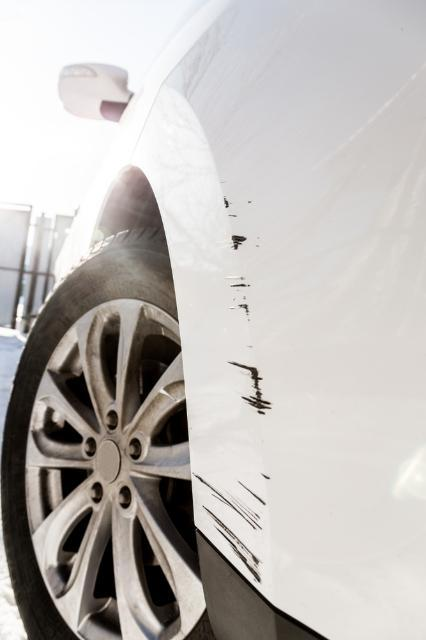scratch: (217, 182, 278, 416), (191, 468, 273, 586)
